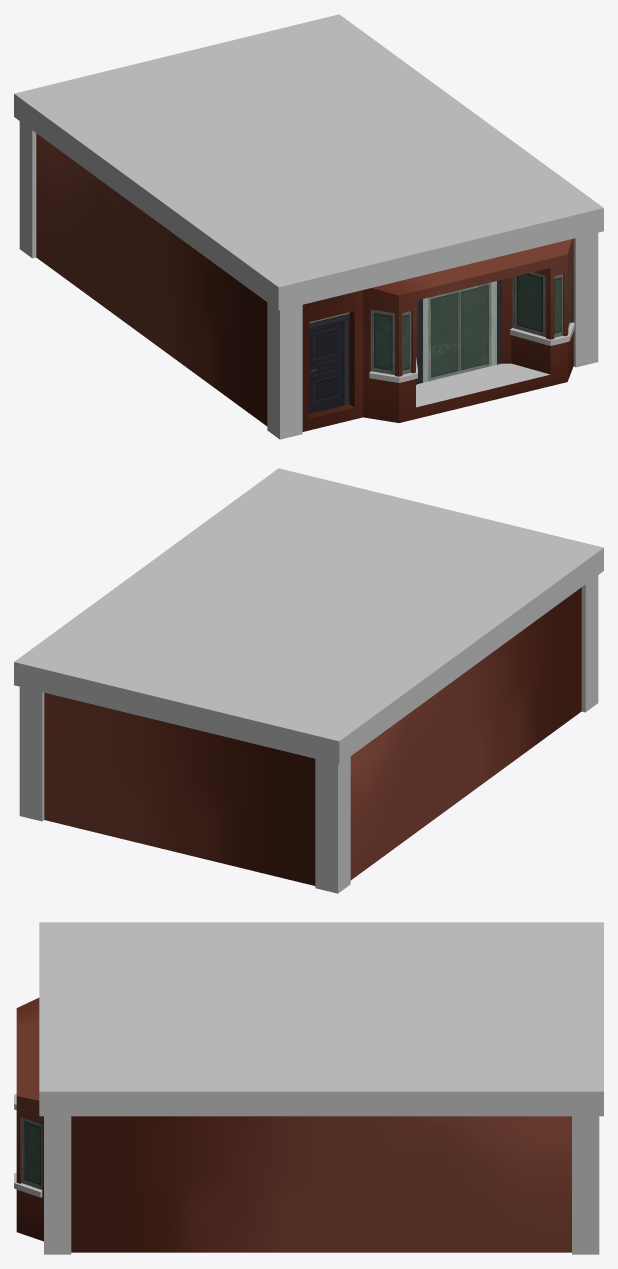
Rendered from BuildingStoredoorBase.fbx.
3 renders of one model, top to bottom at view 1: azimuth 30°, elevation 25°; view 2: azimuth 150°, elevation 25°; view 3: azimuth 270°, elevation 25°, orthographic. The views are drawn at different scales.
Parts seen in each view (by area): view 1: BuildingStoredoorBase; view 2: BuildingStoredoorBase; view 3: BuildingStoredoorBase.
Boxes of the visible parts, <box> form: BuildingStoredoorBase: <box>14,14,603,439</box>; BuildingStoredoorBase: <box>14,468,603,893</box>; BuildingStoredoorBase: <box>14,922,603,1254</box>.
Size of the model in its own units: 880 by 400 by 1296.
